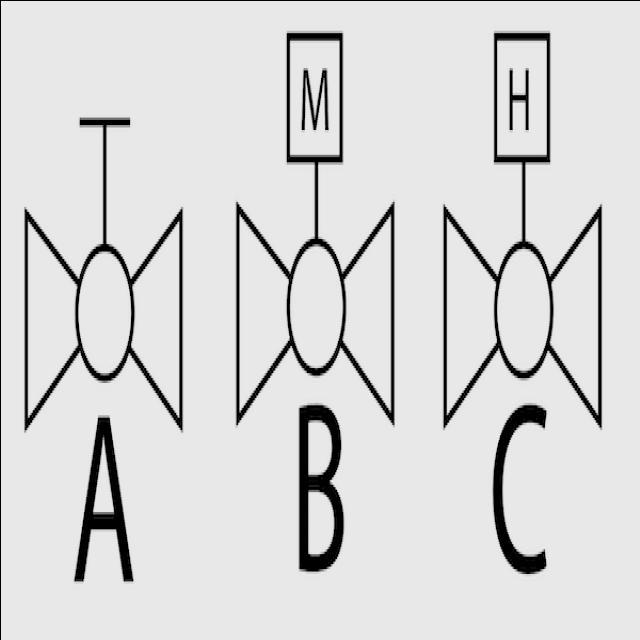Hand Operated Globe Valve: (8, 61, 200, 428)
Hydraulic Operated Globe Valve: (429, 0, 605, 433)
Motor Operated Globe Valve: (228, 0, 414, 435)
